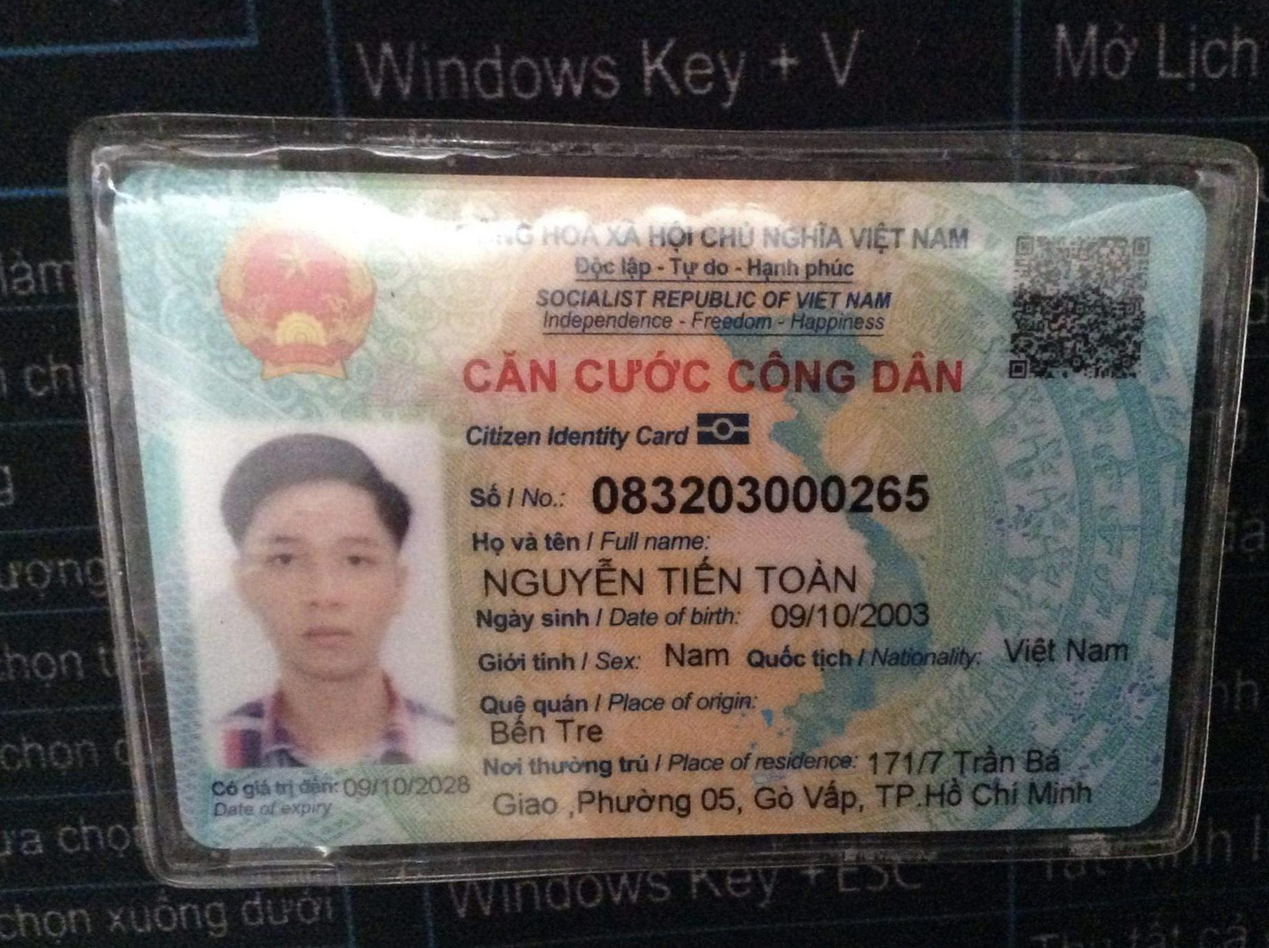ID: (580, 465, 947, 528)
birth: (755, 598, 943, 635)
name: (470, 553, 887, 605)
place: (481, 713, 621, 749)
residence: (480, 775, 1101, 824), (855, 737, 1078, 781)
